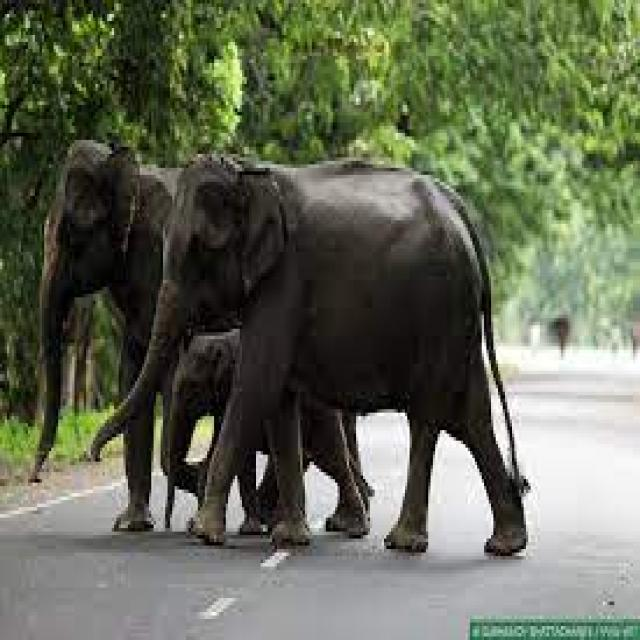Elephant: (138, 142, 539, 574), (25, 133, 115, 485), (162, 314, 282, 558)
